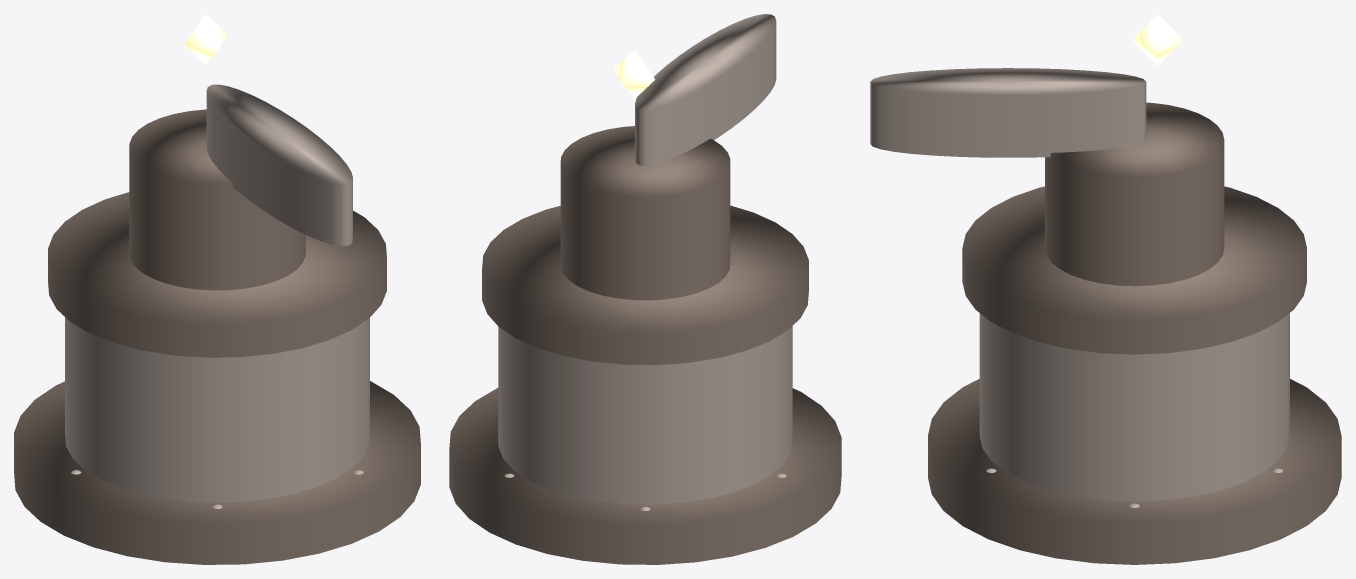
Rendered from cannon_l2.glb.
3 renders of one model, left to right at view 1: azimuth 30°, elevation 25°; view 2: azimuth 150°, elevation 25°; view 3: azimuth 270°, elevation 25°, orthographic. The views are drawn at different scales.
Visible parts, largest first — view 1: base, footing, baseCollar, shaft, barrel, spinCrystal; view 2: base, footing, baseCollar, shaft, barrel, spinCrystal; view 3: base, footing, baseCollar, shaft, barrel, spinCrystal.
Boxes of the visible parts, x1=… form: base: x1=65, y1=317, x2=369, y2=502; footing: x1=14, y1=381, x2=420, y2=564; baseCollar: x1=48, y1=192, x2=386, y2=357; shaft: x1=129, y1=109, x2=305, y2=290; barrel: x1=206, y1=84, x2=352, y2=246; spinCrystal: x1=185, y1=14, x2=227, y2=64; base: x1=498, y1=326, x2=792, y2=504; footing: x1=449, y1=388, x2=841, y2=564; baseCollar: x1=482, y1=205, x2=808, y2=365; shaft: x1=560, y1=126, x2=730, y2=300; barrel: x1=635, y1=14, x2=776, y2=165; spinCrystal: x1=614, y1=50, x2=655, y2=98; base: x1=979, y1=313, x2=1289, y2=501; footing: x1=928, y1=379, x2=1341, y2=564; baseCollar: x1=962, y1=186, x2=1306, y2=354; shaft: x1=1045, y1=102, x2=1224, y2=286; barrel: x1=870, y1=68, x2=1146, y2=157; spinCrystal: x1=1133, y1=14, x2=1182, y2=65.
Bounding box in the file's own units: 1.8 × 2.23 × 2.05.
